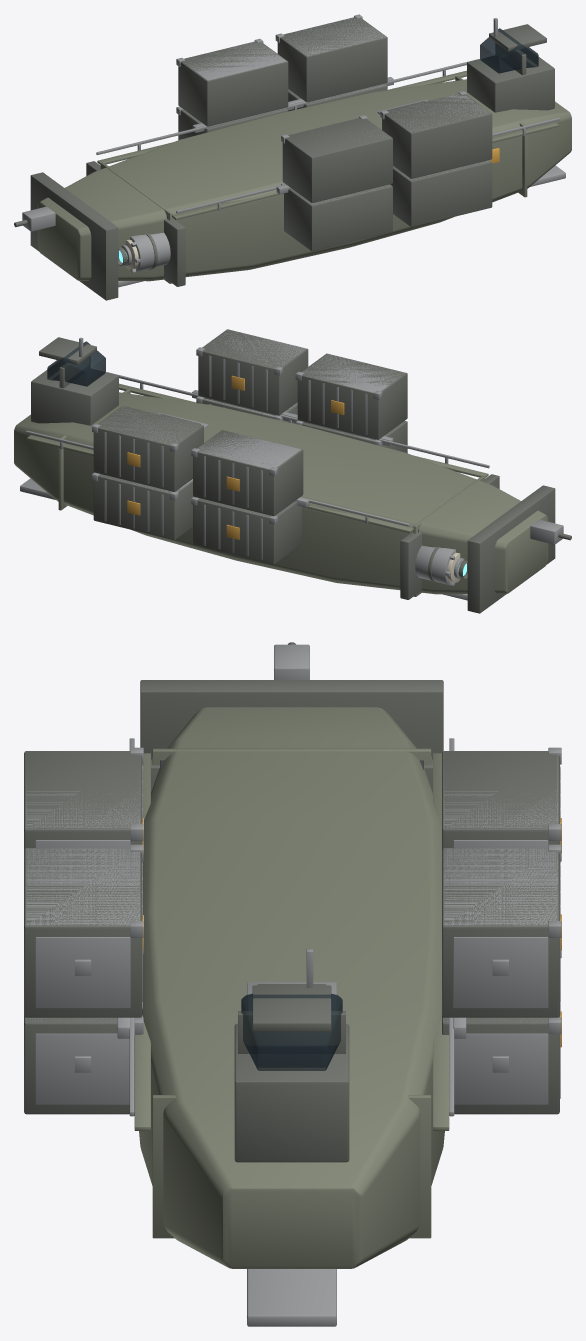
File: mule_production_v1_lod0.glb
3 views of the same model, one above another, from view 1: azimuth 30°, elevation 25°; view 2: azimuth 150°, elevation 25°; view 3: azimuth 270°, elevation 25° (orthographic). The views are drawn at different scales.
Parts seen in each view (by area): view 1: LOD0_Armor, LOD0_Hull, LOD0_Mechanical, LOD0_Canopy; view 2: LOD0_Armor, LOD0_Hull, LOD0_Mechanical, LOD0_Canopy, LOD0_Warning; view 3: LOD0_Hull, LOD0_Armor, LOD0_Mechanical, LOD0_Canopy.
Boxes of the visible parts, x1,y1,x2,y2 form: LOD0_Armor: [14, 17, 554, 300]; LOD0_Hull: [37, 70, 571, 283]; LOD0_Mechanical: [22, 14, 565, 287]; LOD0_Canopy: [480, 28, 538, 73]; LOD0_Armor: [31, 329, 571, 613]; LOD0_Hull: [14, 383, 548, 596]; LOD0_Mechanical: [20, 330, 563, 600]; LOD0_Canopy: [47, 341, 105, 386]; LOD0_Warning: [127, 375, 344, 539]; LOD0_Hull: [134, 707, 449, 1268]; LOD0_Armor: [24, 642, 559, 1162]; LOD0_Mechanical: [26, 644, 561, 1326]; LOD0_Canopy: [241, 993, 342, 1070].
Size of what is drawn, in the model's own units: 15.23 by 4.36 by 6.56.
